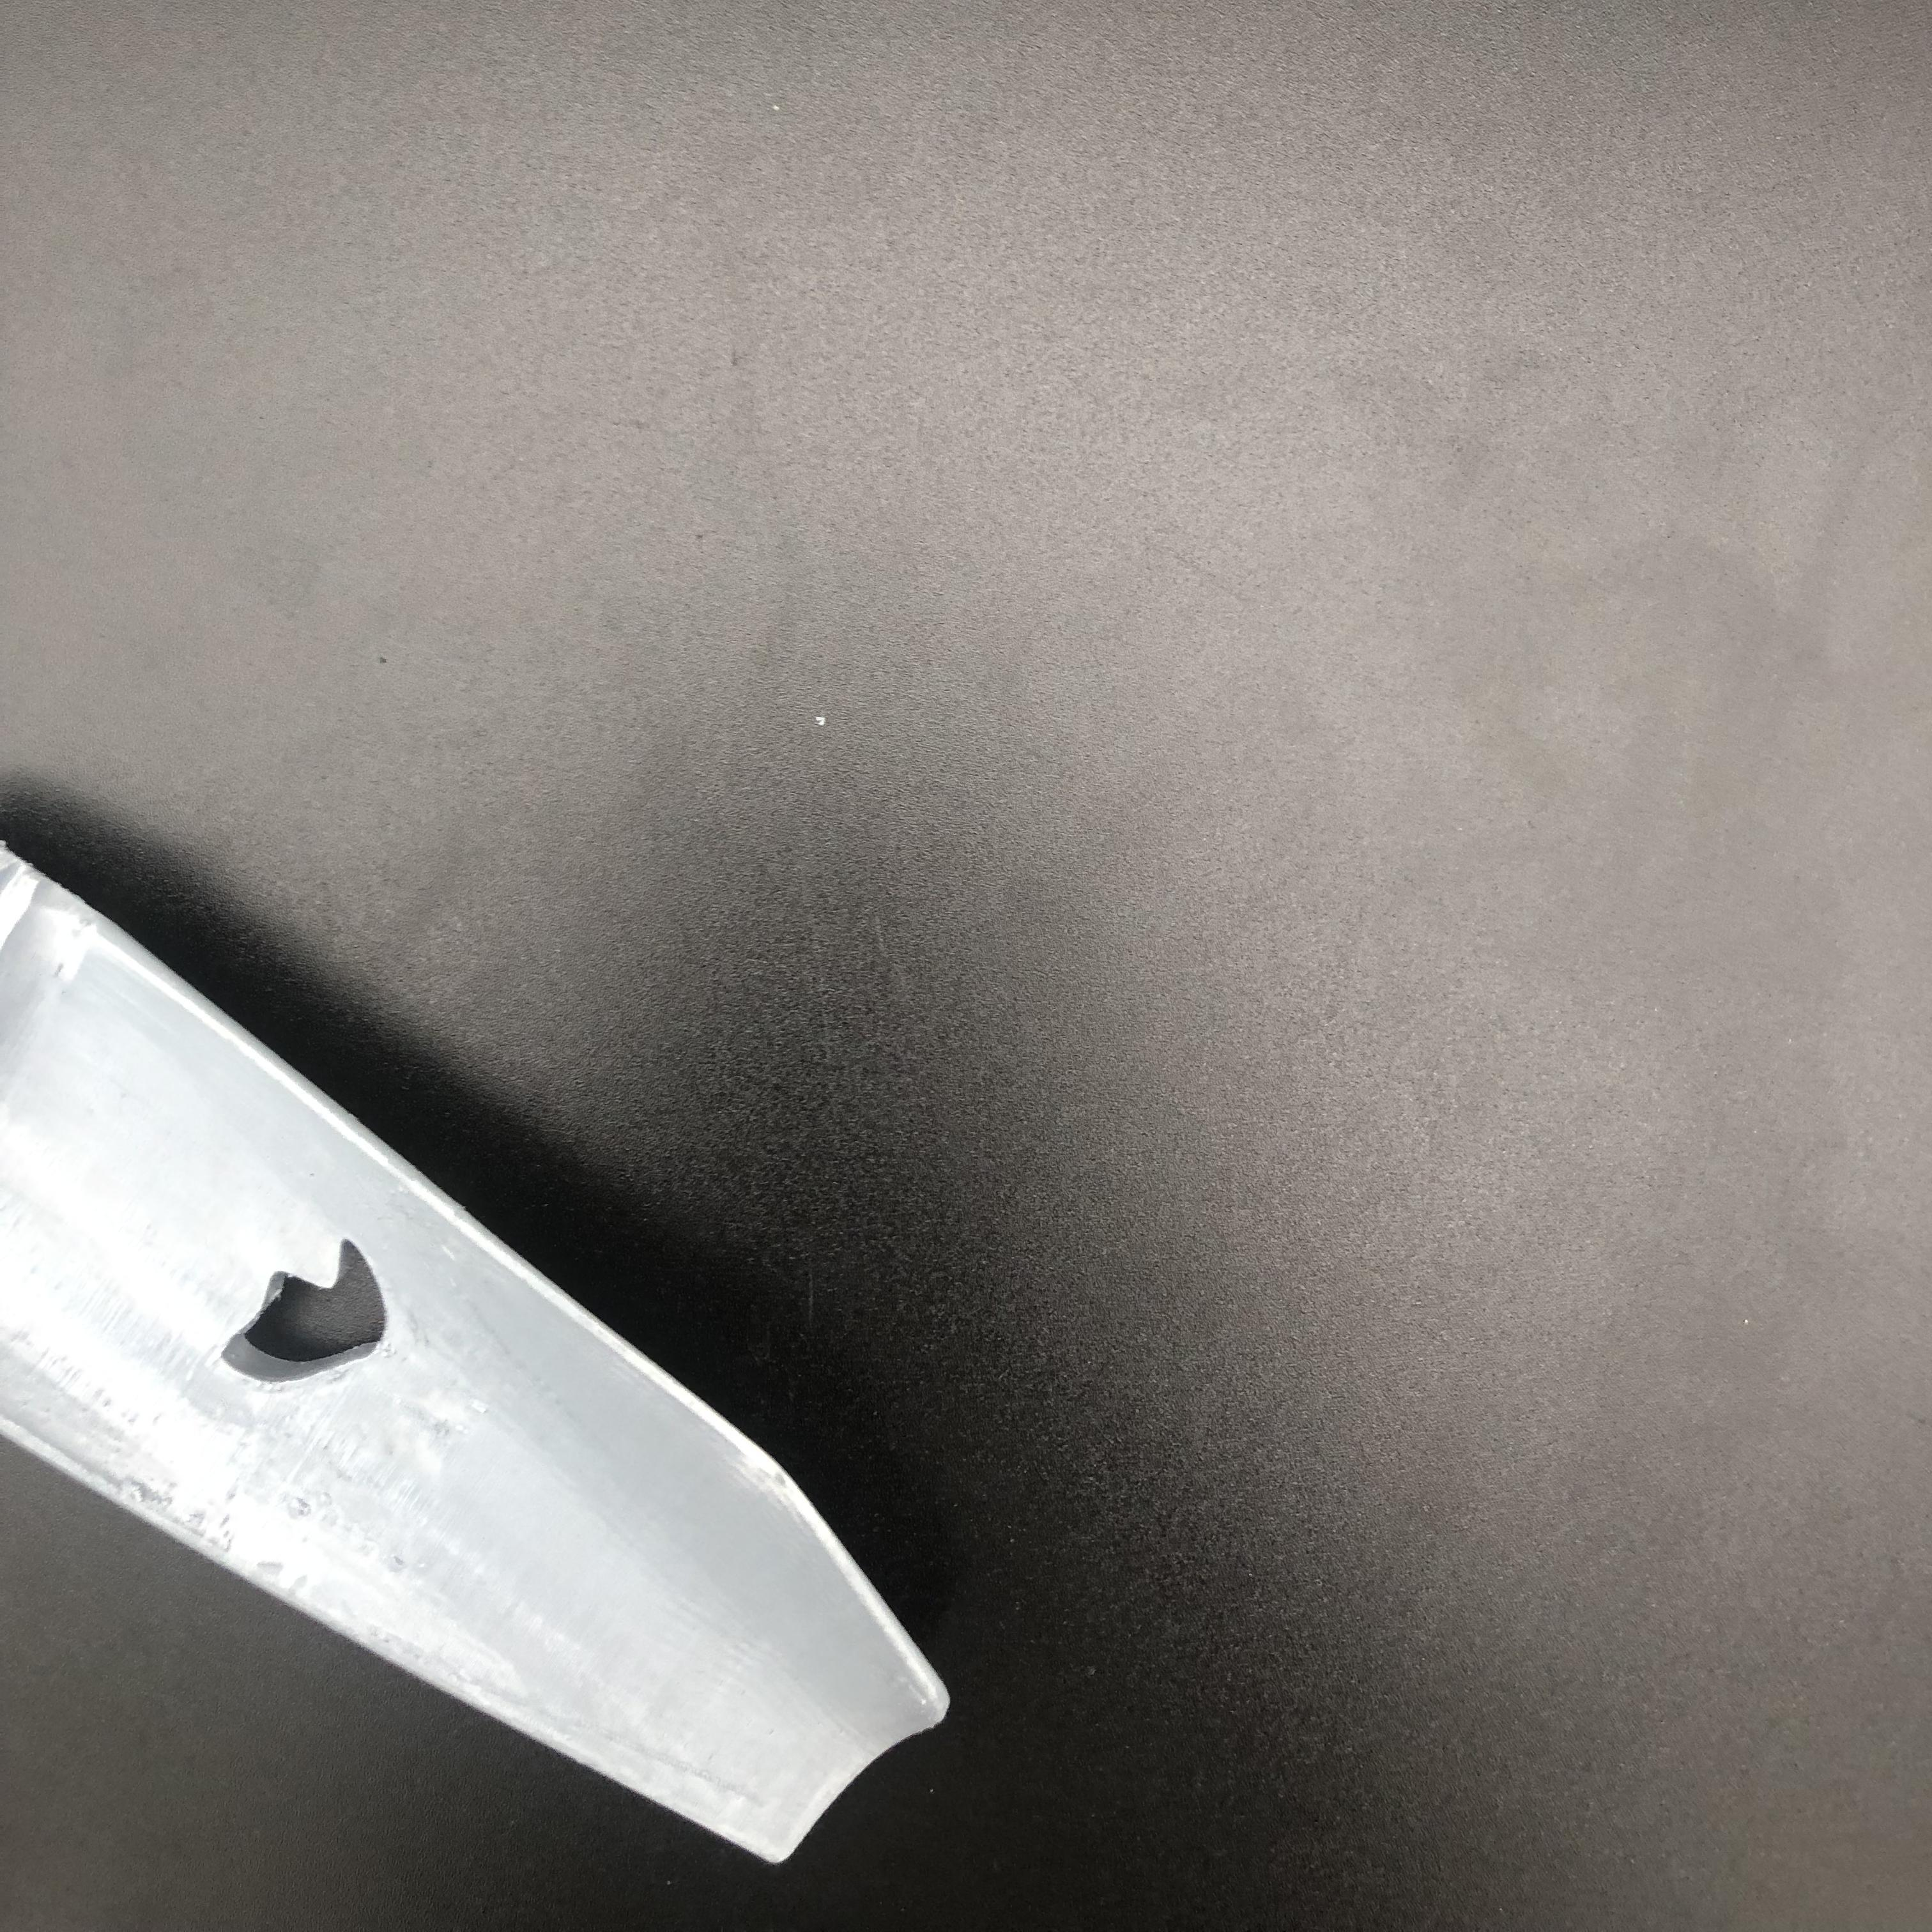breakdown: (216, 1233, 414, 1392)
